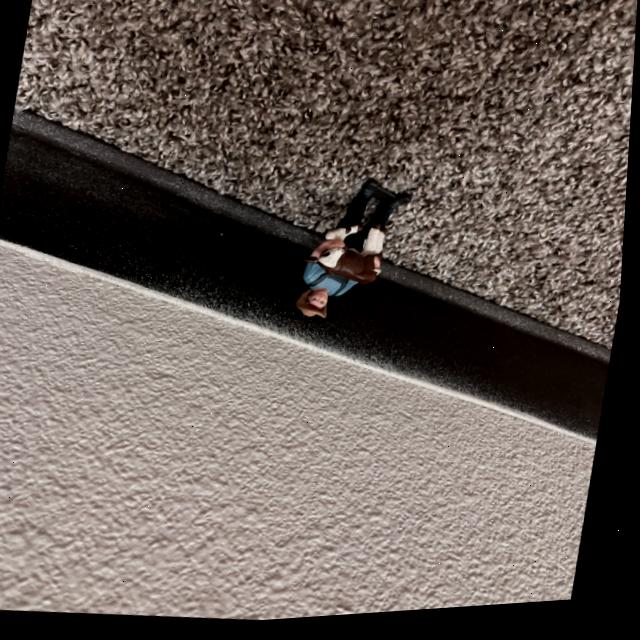cow: (306, 230, 402, 308), (329, 234, 348, 246)
person: (290, 264, 362, 334)
